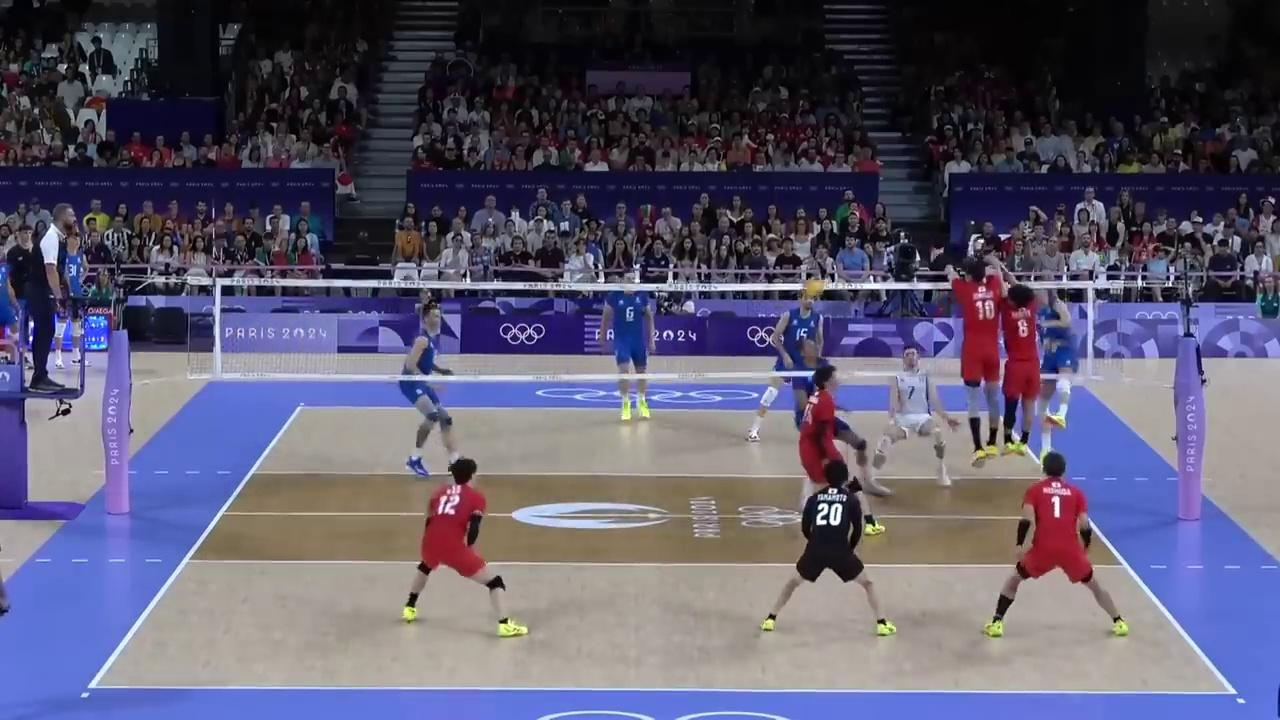ball: (808, 280, 825, 299)
